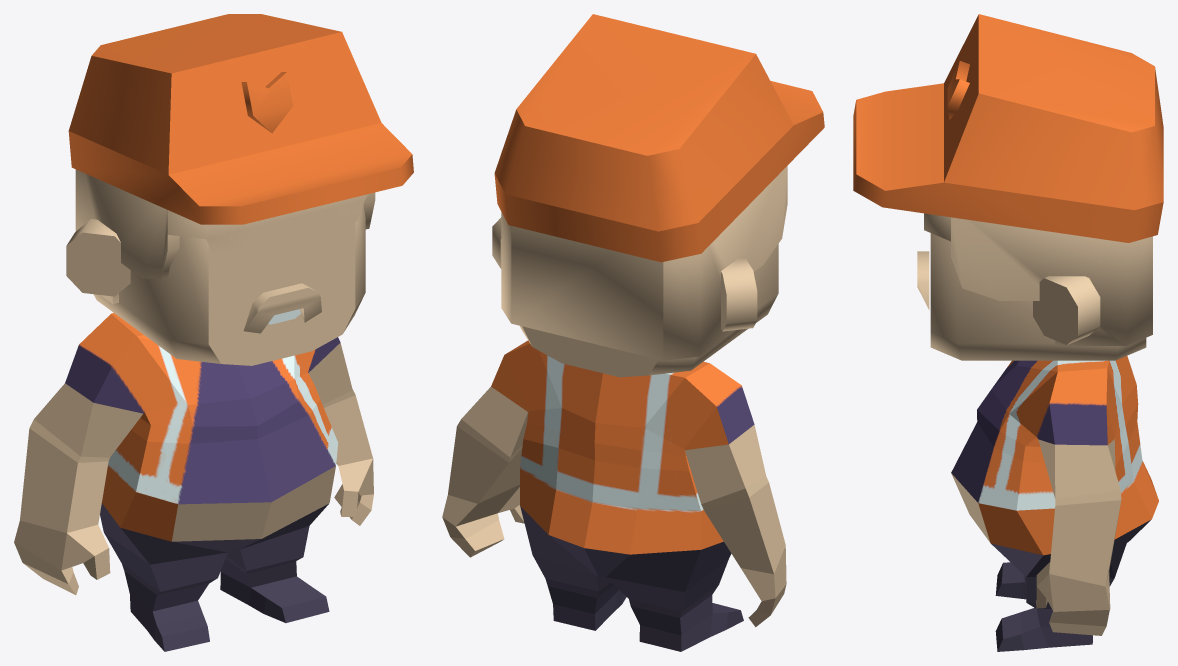
Rendered from PolicemanBody.fbx.
3 views of the same model, side by side, from view 1: azimuth 30°, elevation 25°; view 2: azimuth 150°, elevation 25°; view 3: azimuth 270°, elevation 25° (orthographic). The views are drawn at different scales.
Parts seen in each view (by area): view 1: head-mesh, Policeman Body; view 2: head-mesh, Policeman Body; view 3: head-mesh, Policeman Body.
Boxes of the visible parts, x1,y1,x2,y2 form: head-mesh: [66, 14, 413, 365]; Policeman Body: [14, 313, 373, 651]; head-mesh: [492, 14, 824, 377]; Policeman Body: [442, 340, 786, 651]; head-mesh: [853, 14, 1163, 360]; Policeman Body: [951, 356, 1158, 651].
Bounding box in the file's own units: 821 × 1320 × 663.
